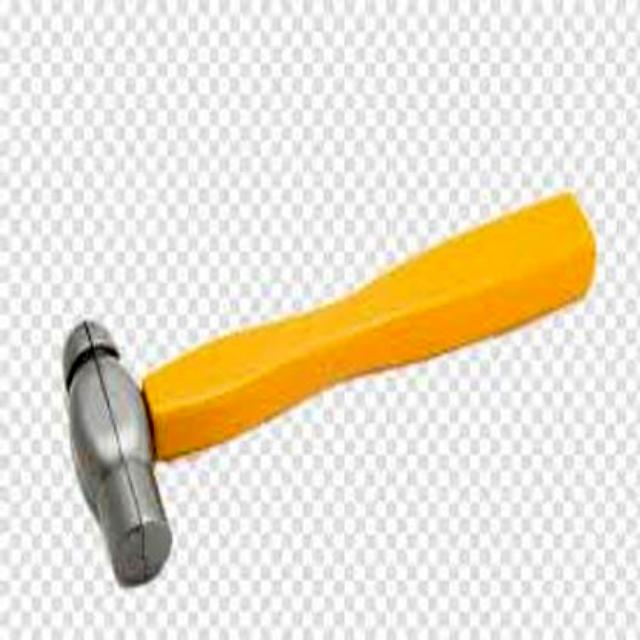hammer: (53, 189, 612, 595)
